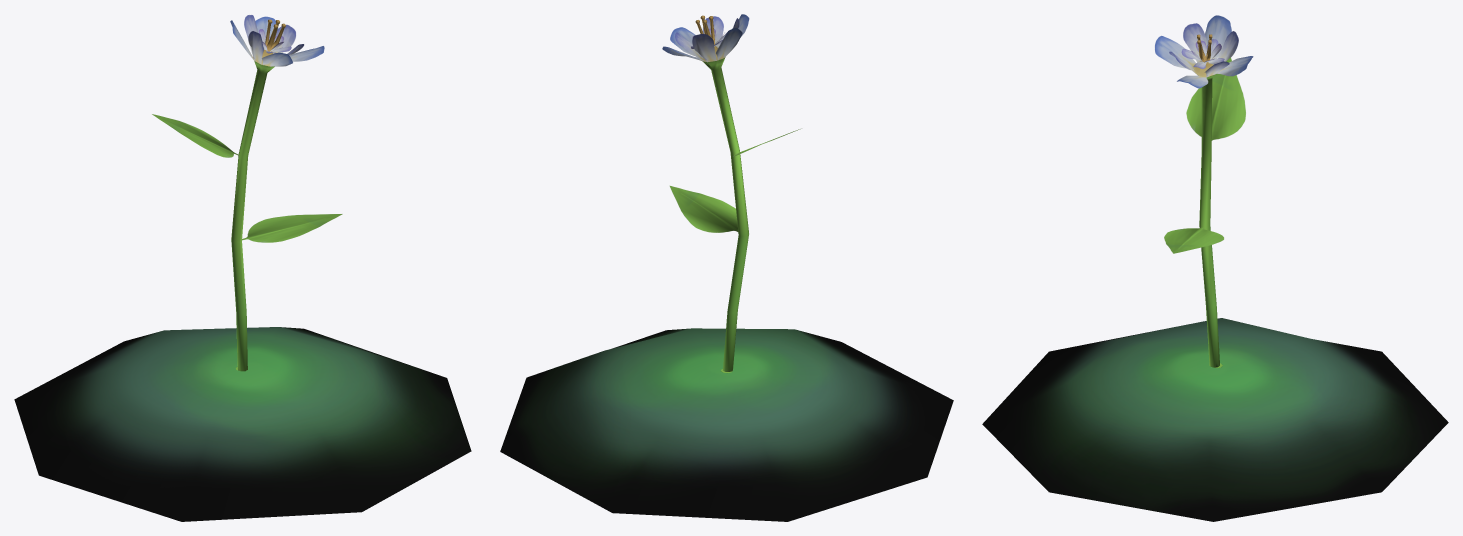
The model's file is flower.glb.
The picture shows the model from 3 angles, left to right: view 1: azimuth 30°, elevation 25°; view 2: azimuth 150°, elevation 25°; view 3: azimuth 270°, elevation 25°; orthographic projection.
Parts seen in each view (by area): view 1: Flower_2; view 2: Flower_2; view 3: Flower_2.
Part boxes in pixels (left/top/right/bottom): Flower_2: left=14, top=15, right=471, bottom=521; Flower_2: left=500, top=14, right=953, bottom=521; Flower_2: left=982, top=15, right=1448, bottom=521.
Size of the model in its own units: 0.5453 by 0.5206 by 0.5453.
1 material, 1 textured.
